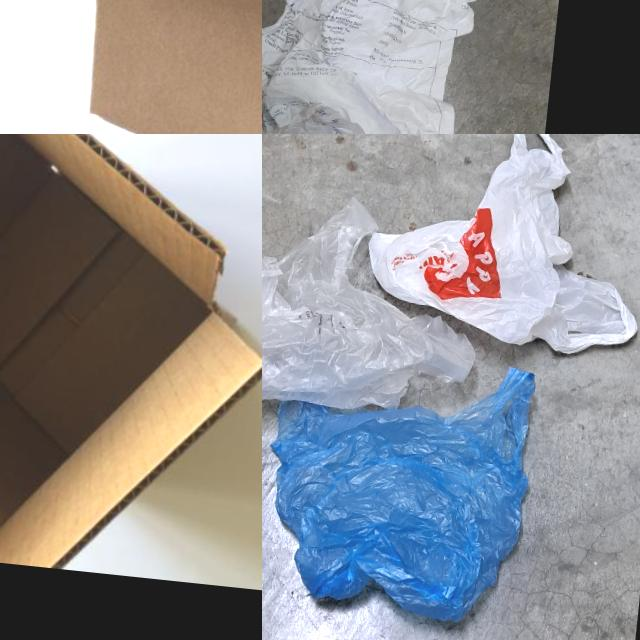garrafa plástica: (0, 0, 262, 134)
papel: (262, 0, 482, 134)
papelão: (0, 134, 262, 587)
sacola plástica: (262, 343, 546, 633), (357, 134, 640, 365), (262, 178, 493, 440)
